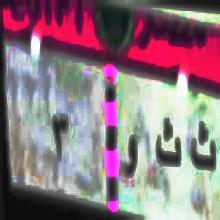3: (51, 106, 69, 165)
thaa: (190, 119, 216, 178), (155, 114, 182, 170)
waw: (118, 126, 139, 187)
